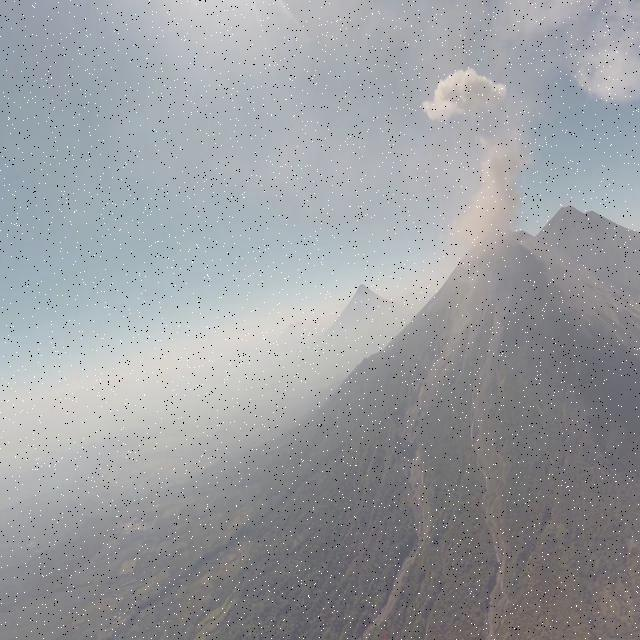Plume: (446, 122, 530, 250), (568, 2, 640, 108), (418, 58, 506, 127)
